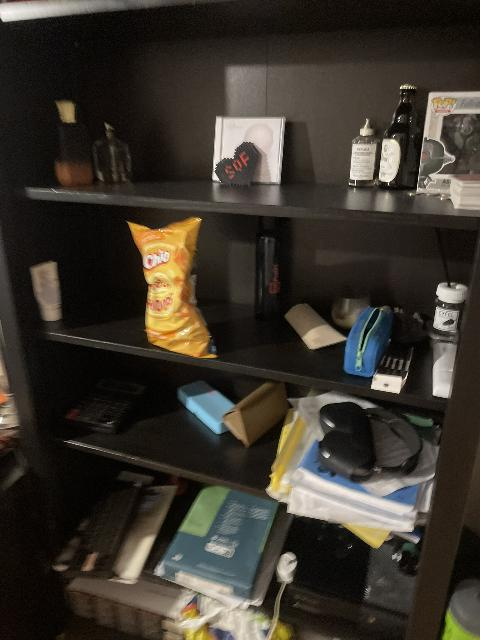Chio Hula Hoops Cheese 70g: (129, 218, 217, 355)
